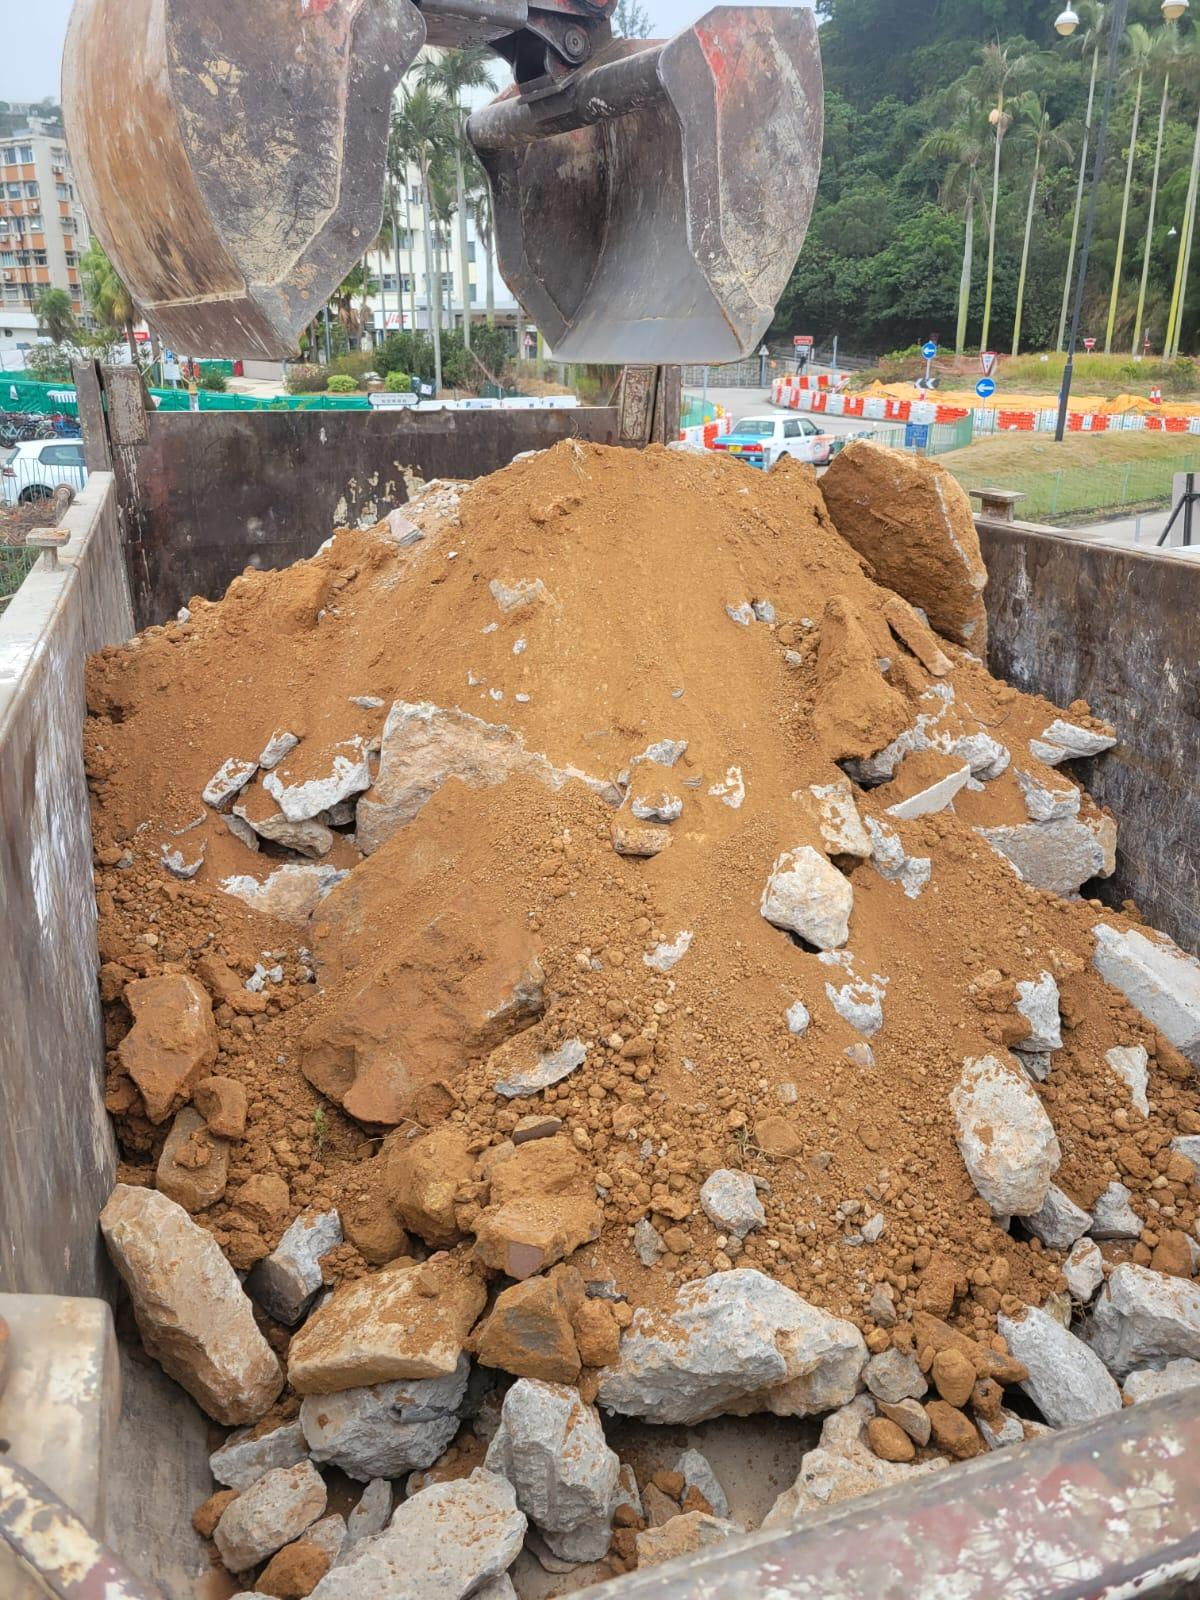dry: (125, 427, 1165, 1420)
